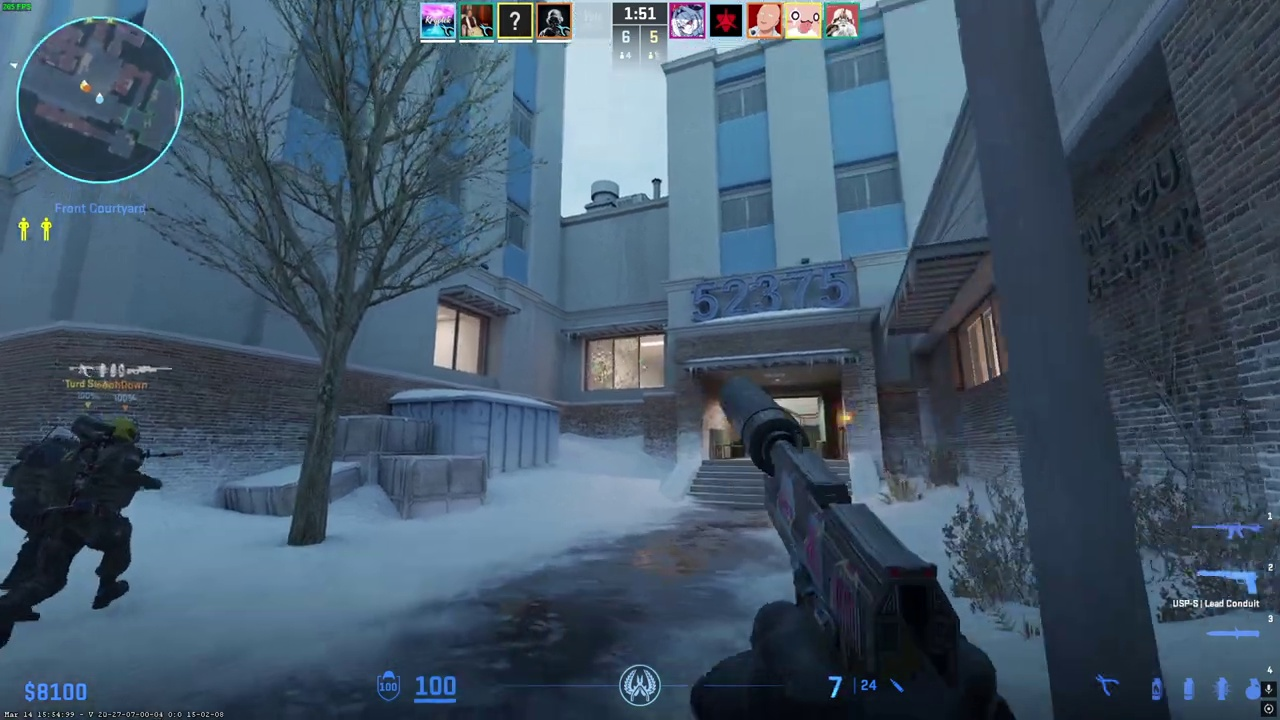CT: (0, 412, 118, 650), (101, 419, 146, 553)
